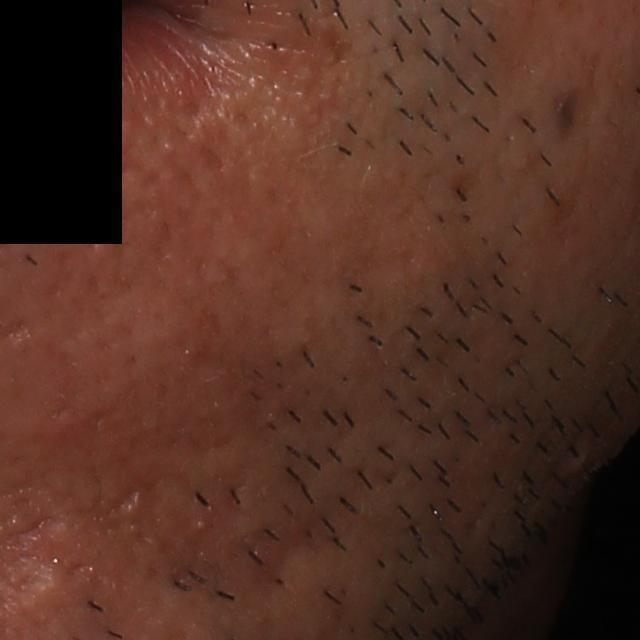atrophic_scar: (256, 523, 328, 605), (72, 488, 143, 541)
hypertrophic_scar: (16, 566, 84, 617)
nevus: (553, 87, 582, 140)
